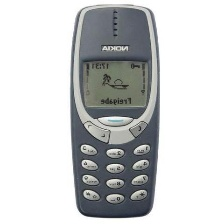phone: (68, 3, 161, 219)
